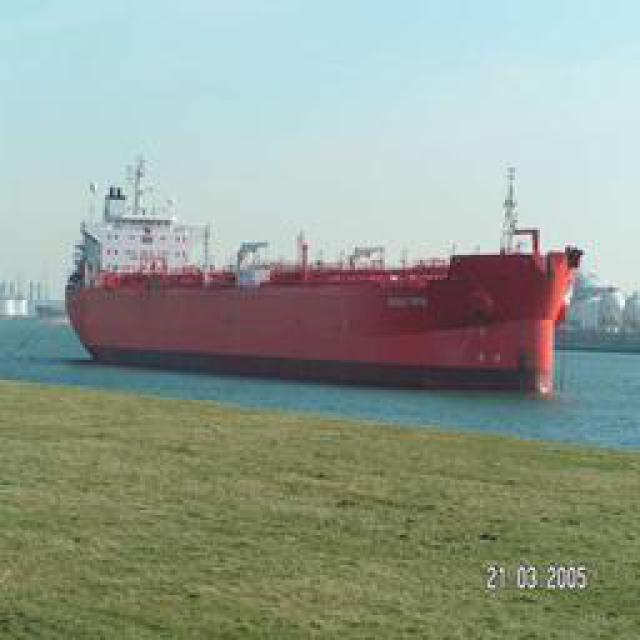Ship: (69, 159, 584, 392)
